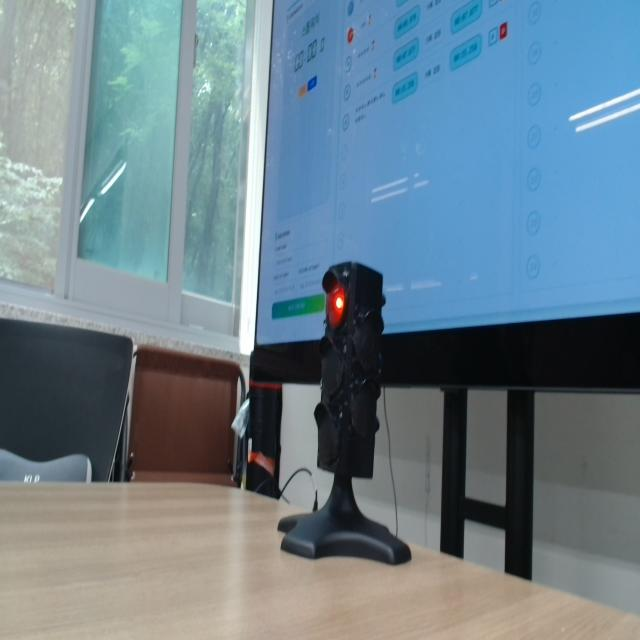red_light: (326, 284, 345, 328)
